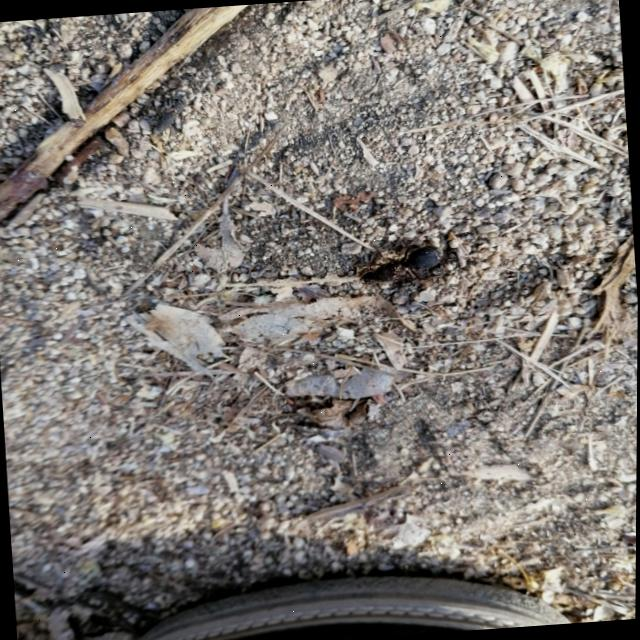Alive-Female-Dealate: (355, 215, 446, 289)
